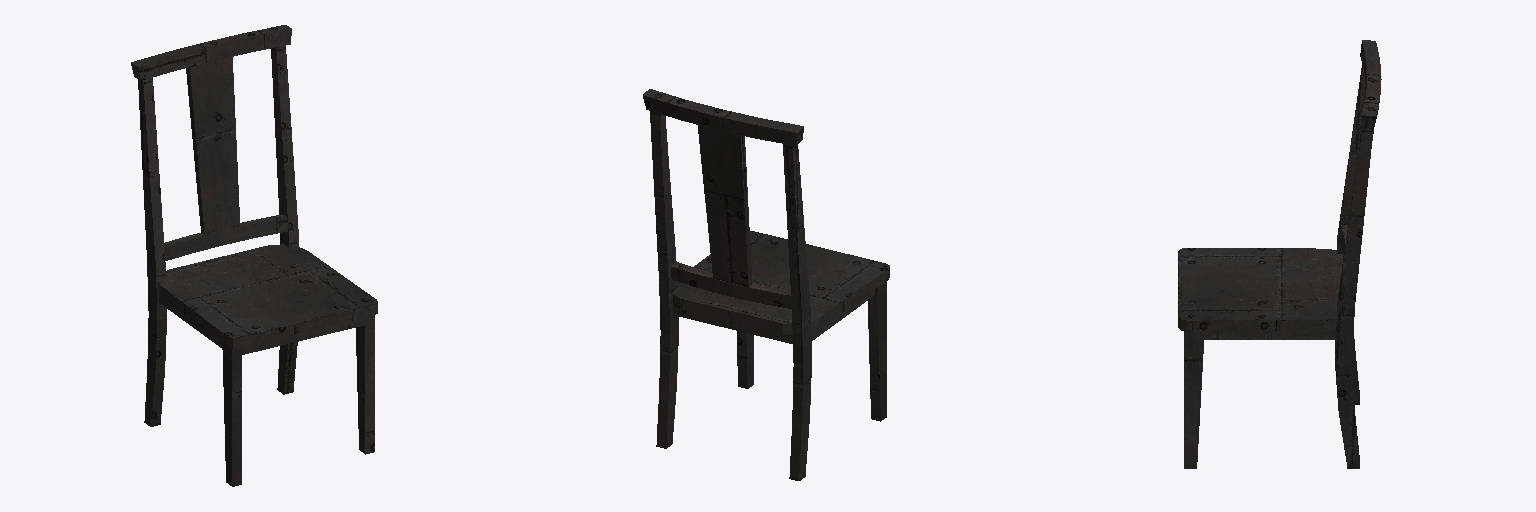
3 views of the same model, side by side, from view 1: azimuth 30°, elevation 25°; view 2: azimuth 150°, elevation 25°; view 3: azimuth 270°, elevation 25° (orthographic).
Parts seen in each view (by area): view 1: chair; view 2: chair; view 3: chair.
Part boxes in pixels (left/top/right/bottom): chair: left=131, top=25, right=377, bottom=486; chair: left=643, top=89, right=889, bottom=480; chair: left=1178, top=40, right=1381, bottom=468.
Size of the model in its own units: 0.4005 by 0.8842 by 0.4554.
Materials: 1 (1 with a texture image).